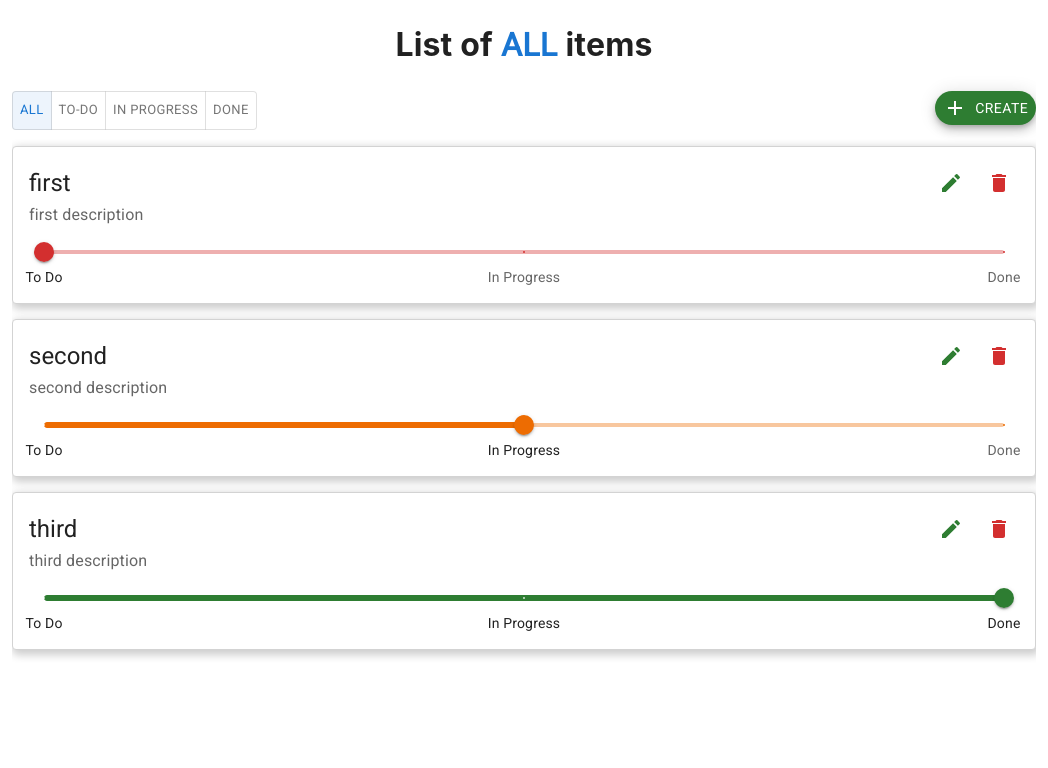
Test: Home › Should display only to-do item cards
The width and height of the screenshot is (1048, 768).
Expected: the text "first description" is shown, [29,205,143,224]
Expected: the text "second description" is shown, [29,378,167,397]
Click the button "To-Do" at (78, 110), box [51,91,106,130]
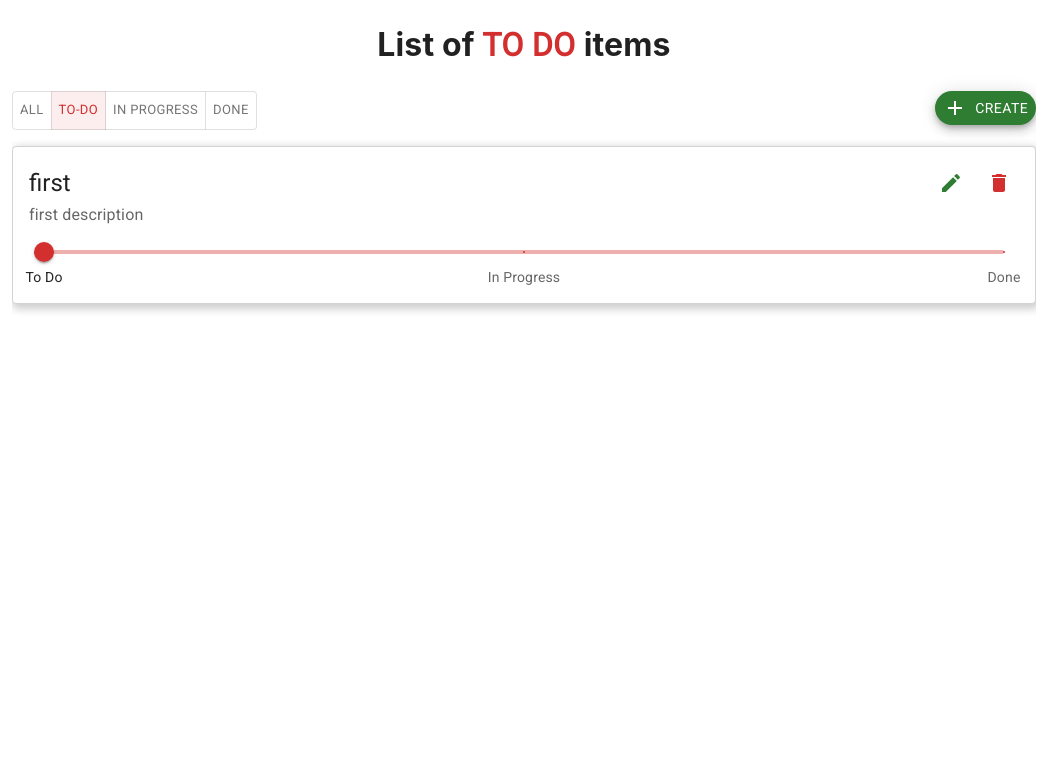
Expected: the text "first description" is shown, [29,205,143,224]
Now the text "second description" is gone
